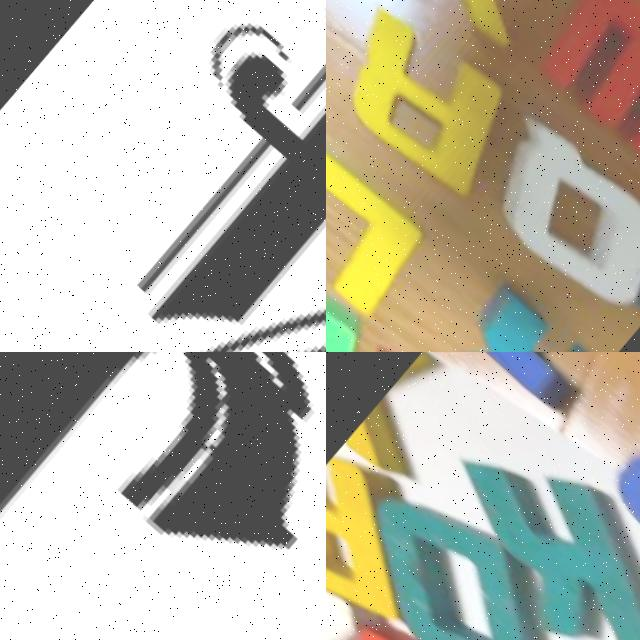B: (569, 352, 640, 640)
D: (326, 451, 608, 640)
E: (326, 322, 527, 352)
J: (0, 352, 326, 640)
K: (405, 394, 640, 640), (427, 268, 603, 352)
L: (326, 114, 442, 326)
Q: (465, 103, 640, 312)
R: (326, 0, 528, 205)
W: (521, 0, 640, 171)
X: (339, 0, 573, 56)
Z: (326, 532, 430, 640)
